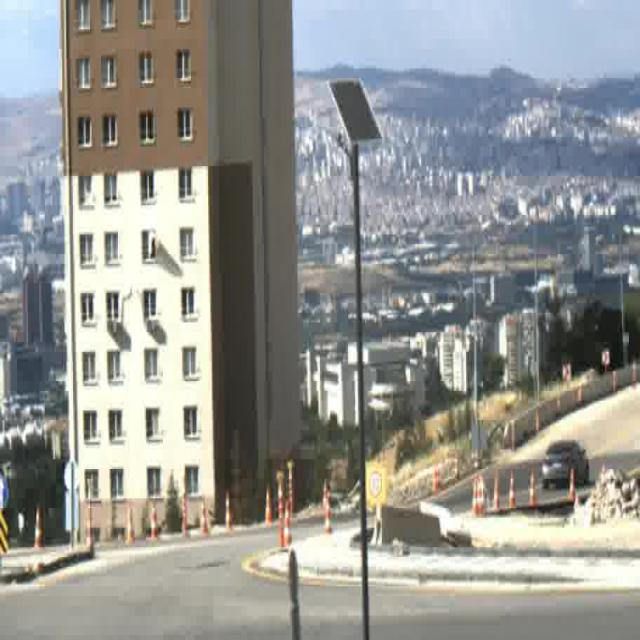Car: (541, 442, 590, 487)
